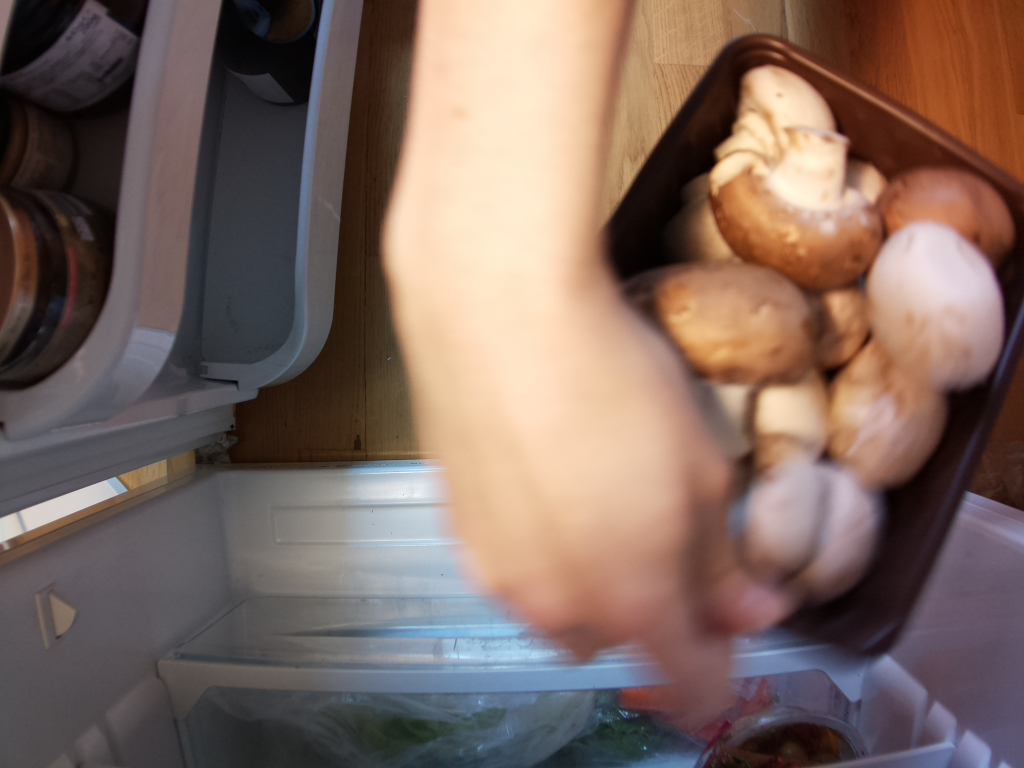mushrooms: (629, 37, 1024, 602)
